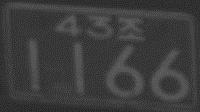1: (63, 40, 96, 96), (20, 39, 54, 89)
3: (86, 13, 115, 40)
4: (53, 12, 83, 38)
6: (104, 43, 145, 100), (149, 48, 190, 102)
조: (117, 16, 146, 42)
